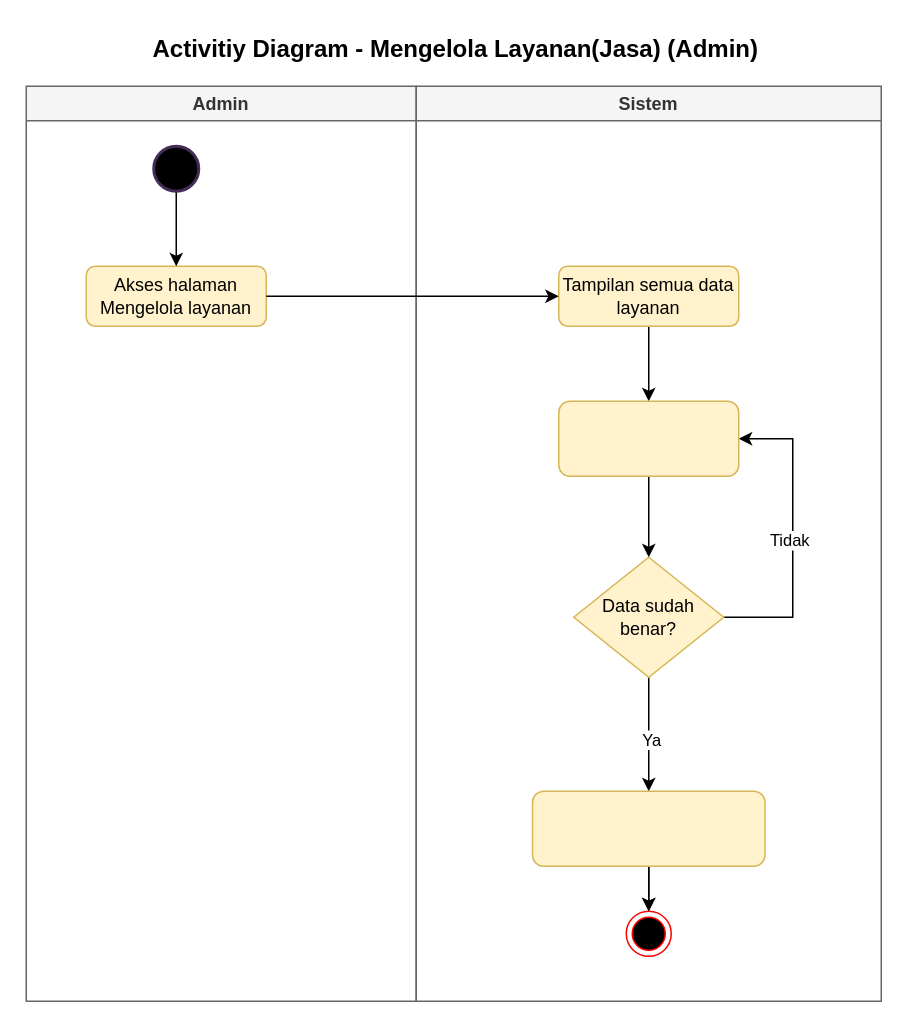
This 908x1028 diagram has some shape labels left out. Each missing label, with the centre of its shape:
Menampilakan notifikasi "Layanan telah tersimpan": (648,828)
Mengelola layanan (Tambah, Edit, Hapus): (648,438)
